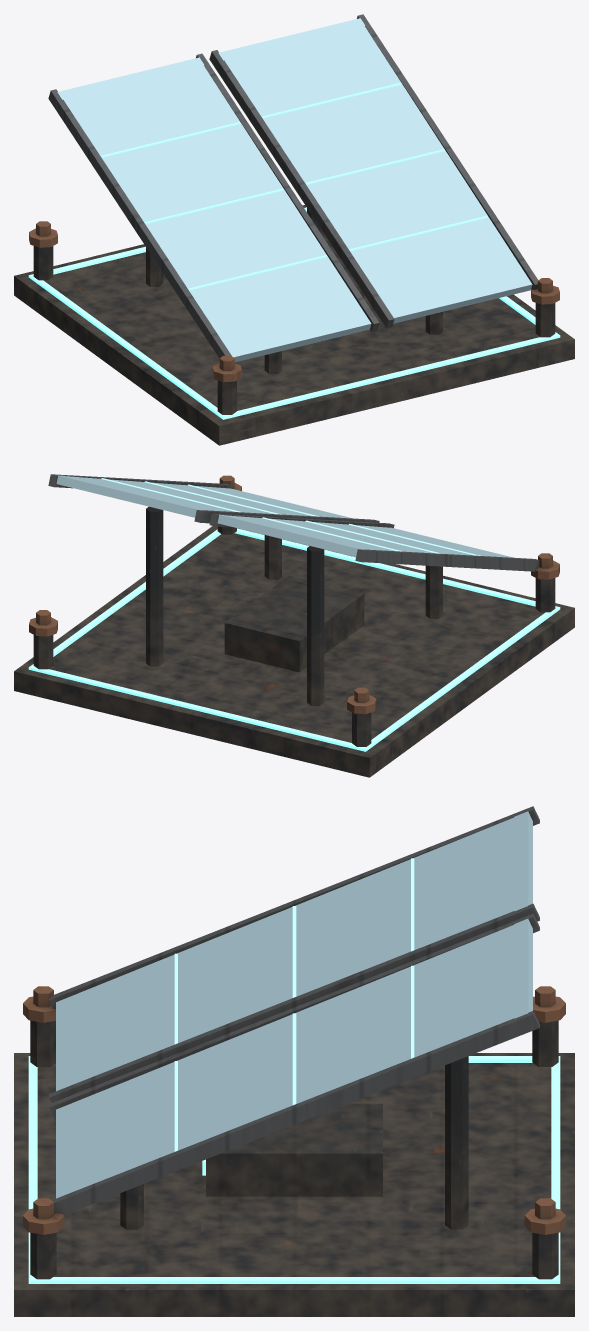
Rendered from painel_solar.glb.
3 renders of one model, top to bottom at view 1: azimuth 30°, elevation 25°; view 2: azimuth 150°, elevation 25°; view 3: azimuth 270°, elevation 25°, orthographic. The views are drawn at different scales.
Visible parts, largest first — view 1: painel_solar; view 2: painel_solar; view 3: painel_solar.
Boxes of the visible parts, <box> form: painel_solar: <box>14,14,574,445</box>; painel_solar: <box>14,474,574,777</box>; painel_solar: <box>14,806,574,1316</box>.
Size of the model in its own units: 1.9 by 1.08 by 1.9.
Materials: 3 (1 with a texture image).
